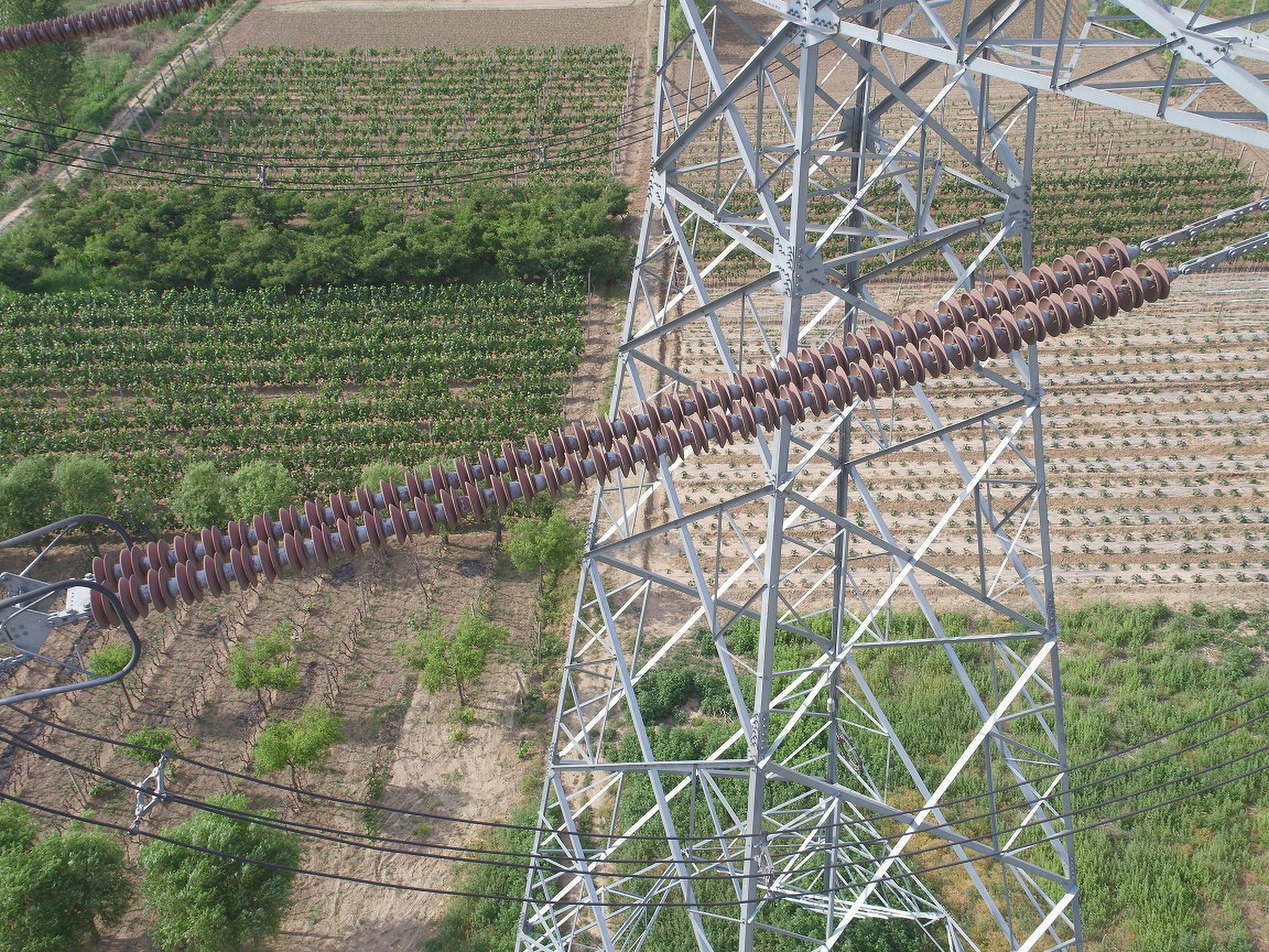insulator: (82, 233, 1176, 635), (1, 1, 230, 55)
